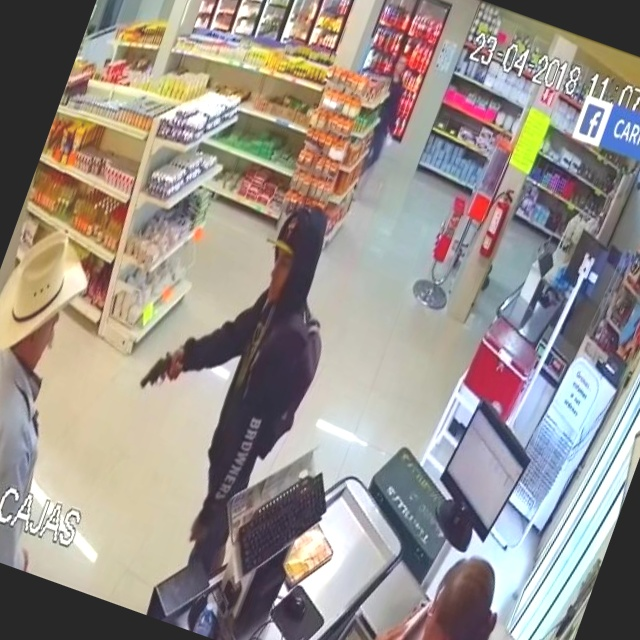gun: (129, 326, 190, 419)
